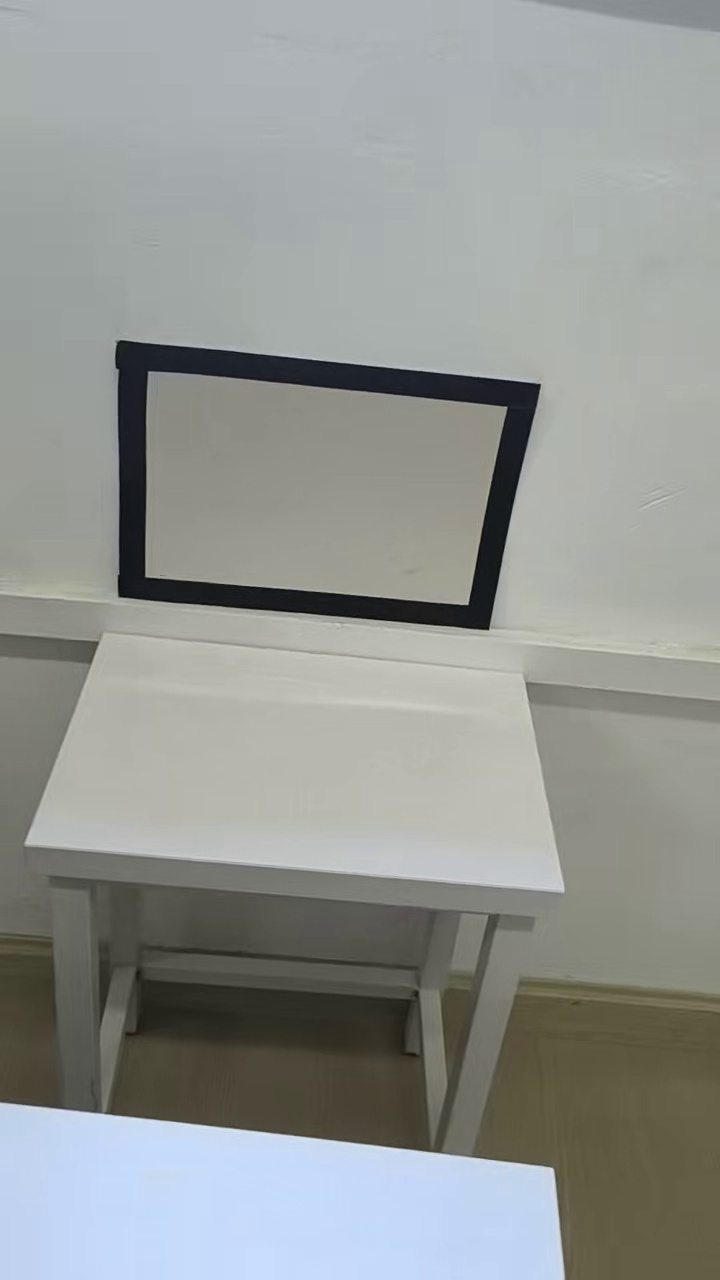board: (116, 347, 540, 631)
